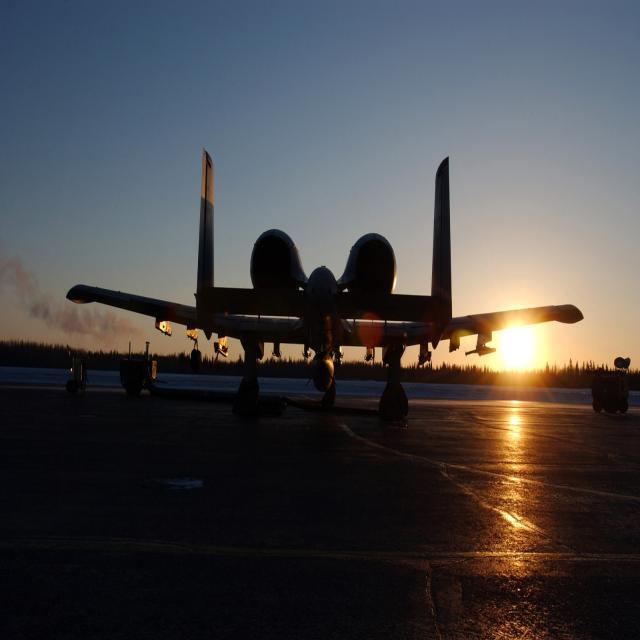MIL_Plane: (65, 146, 584, 415)
